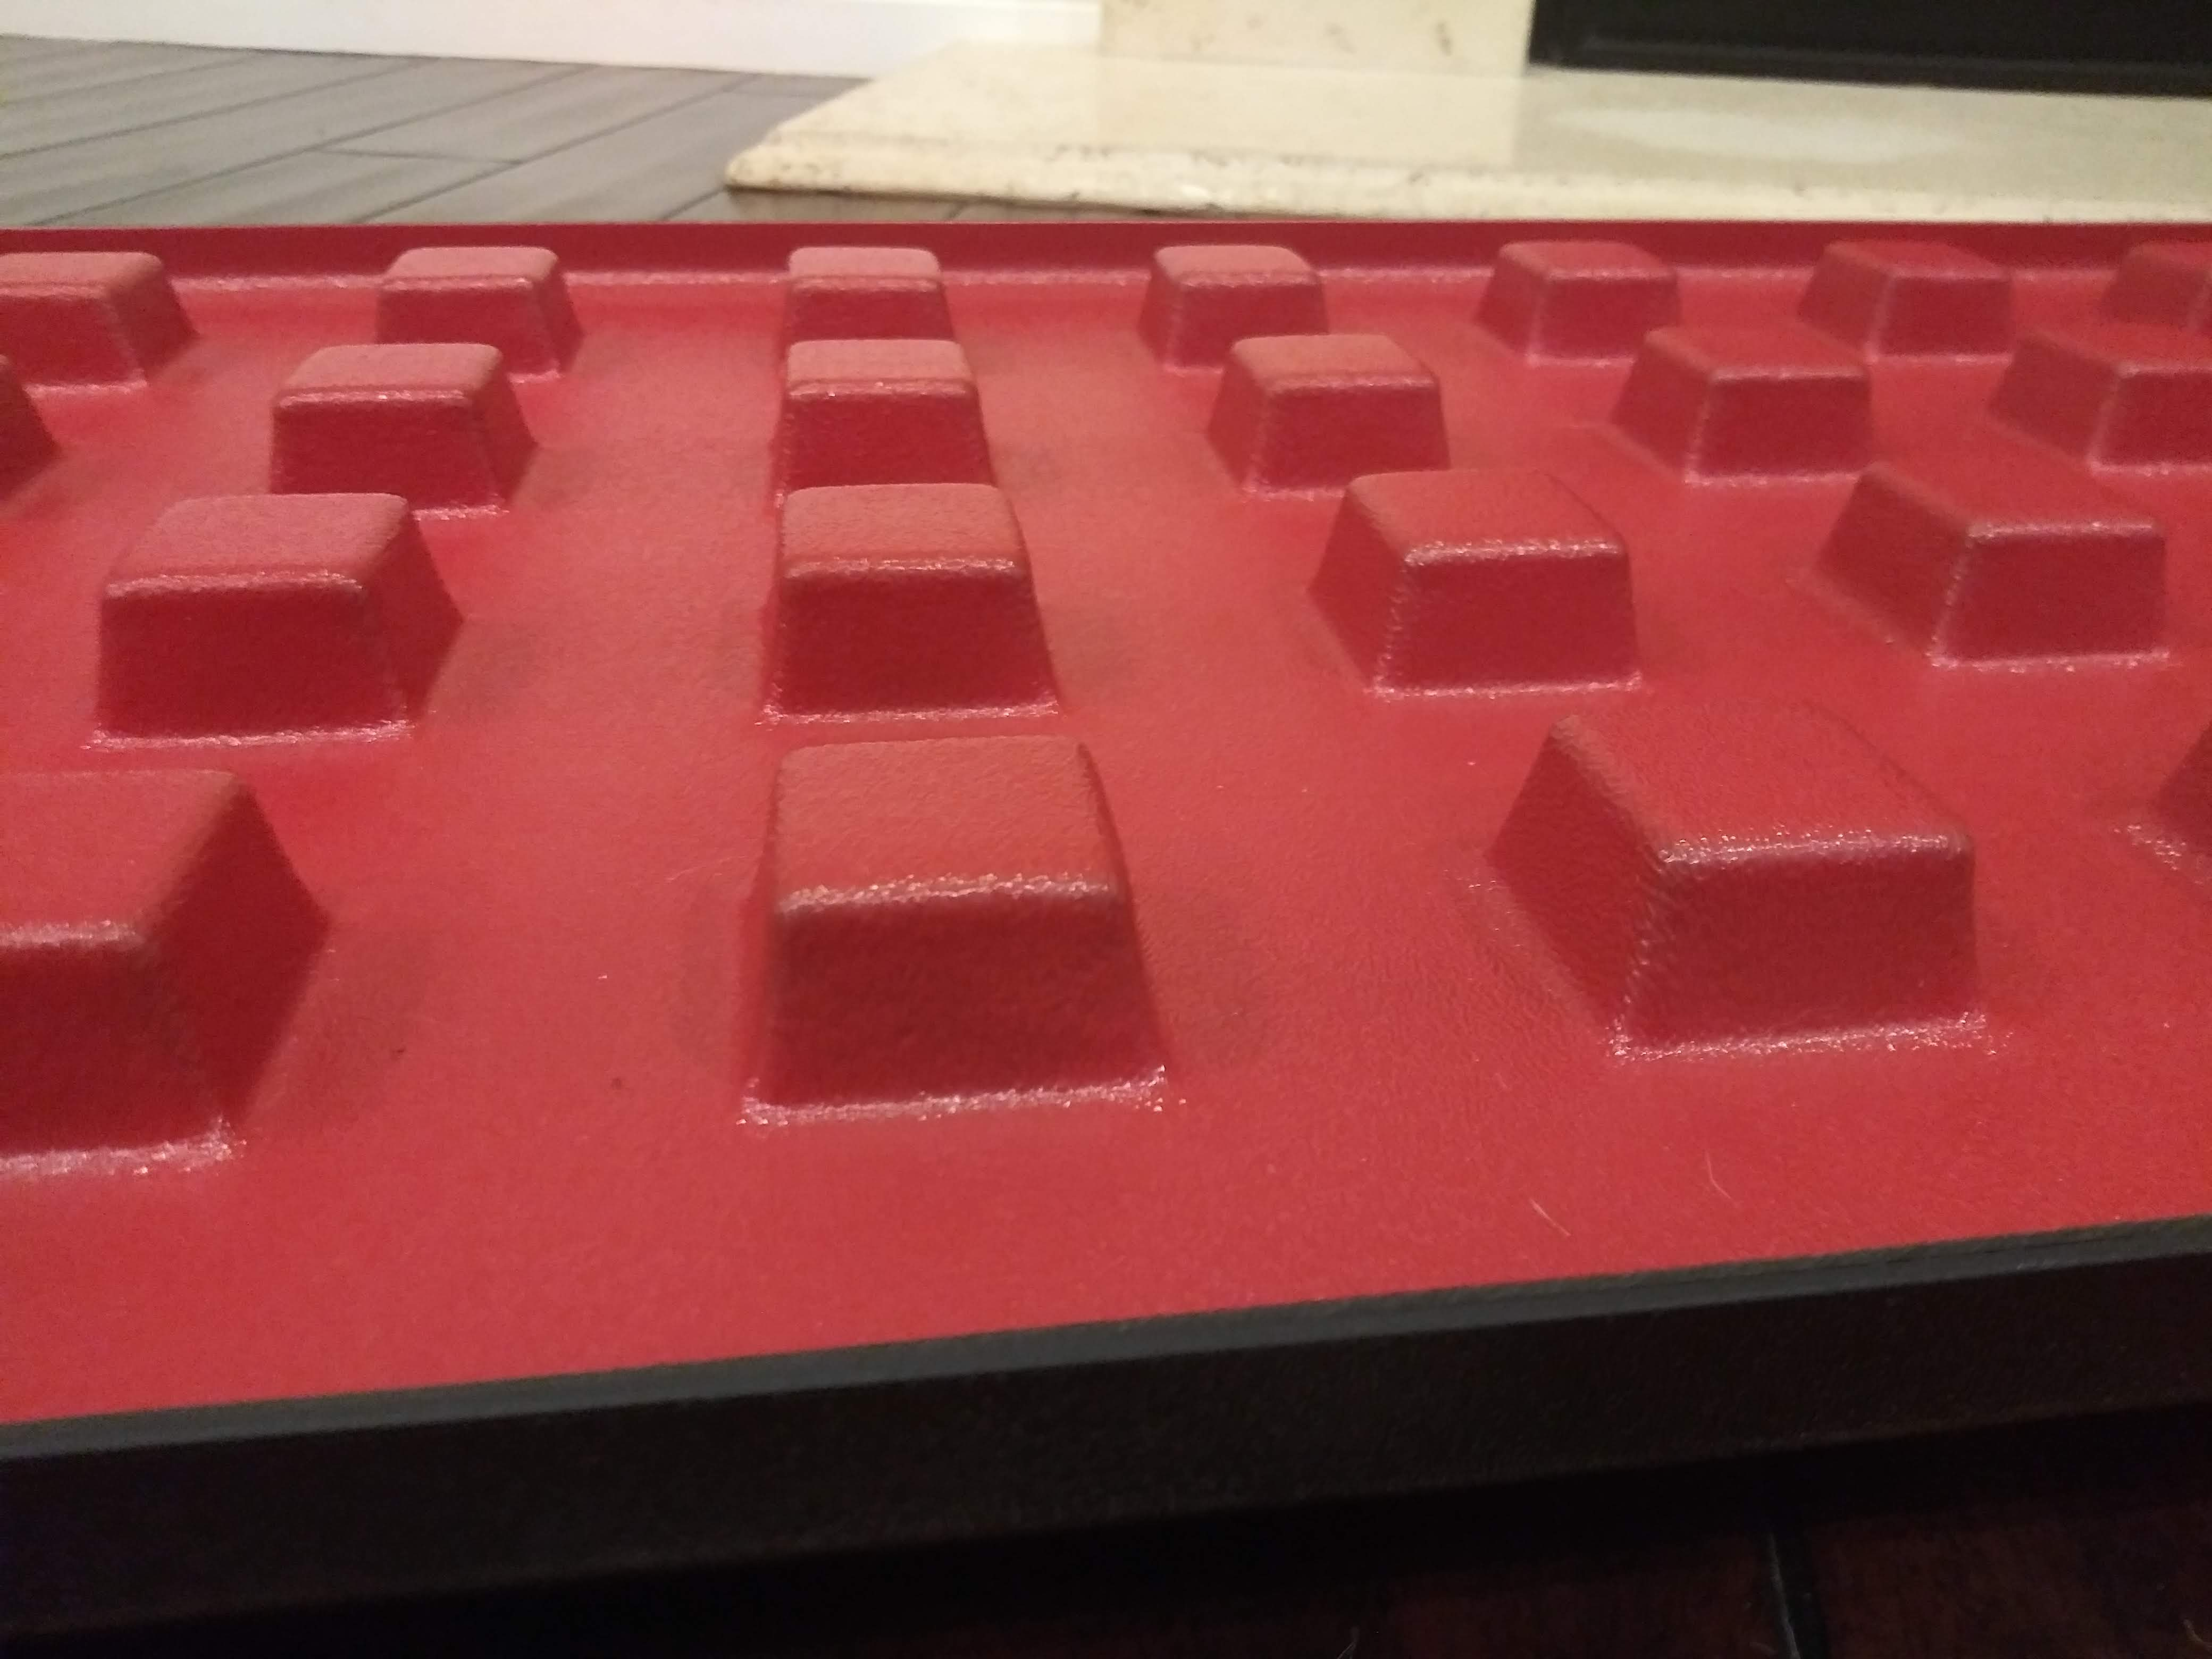red foundation: (23, 179, 2165, 1460)
